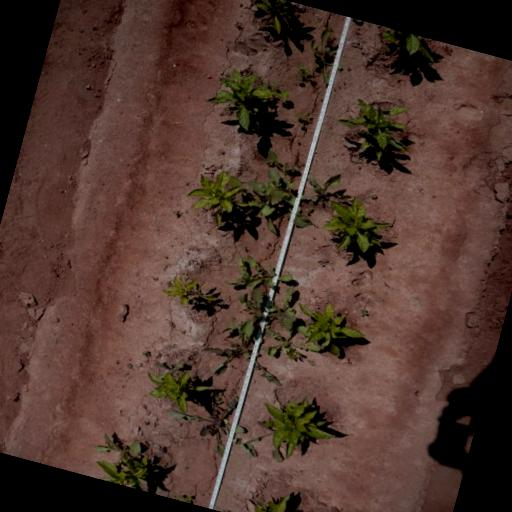plant: (250, 382, 348, 468), (326, 87, 422, 167), (198, 60, 278, 135), (320, 192, 394, 257), (295, 299, 367, 358), (186, 169, 248, 230), (144, 370, 212, 412), (374, 24, 442, 65), (230, 0, 300, 36), (92, 454, 155, 491), (160, 271, 219, 308), (244, 482, 301, 512)
weed: (198, 317, 288, 390), (164, 391, 258, 458), (228, 166, 312, 235), (222, 282, 278, 342), (283, 168, 354, 206), (240, 250, 296, 296), (269, 282, 311, 337), (309, 27, 344, 85), (87, 426, 144, 460), (264, 328, 322, 356), (266, 148, 301, 193), (224, 254, 253, 290), (152, 354, 184, 374), (293, 62, 319, 86), (290, 110, 312, 128), (284, 344, 303, 361), (175, 490, 194, 504), (226, 384, 242, 400), (316, 255, 330, 268), (139, 346, 152, 358), (358, 306, 370, 318), (302, 204, 314, 214), (304, 356, 316, 366), (232, 19, 244, 28), (262, 156, 274, 165), (296, 159, 306, 169), (170, 207, 180, 217), (140, 418, 151, 426), (264, 240, 272, 250), (218, 506, 230, 512), (260, 44, 270, 51), (165, 278, 173, 286), (140, 402, 149, 409), (370, 192, 378, 199), (178, 328, 186, 334), (294, 138, 300, 144)
